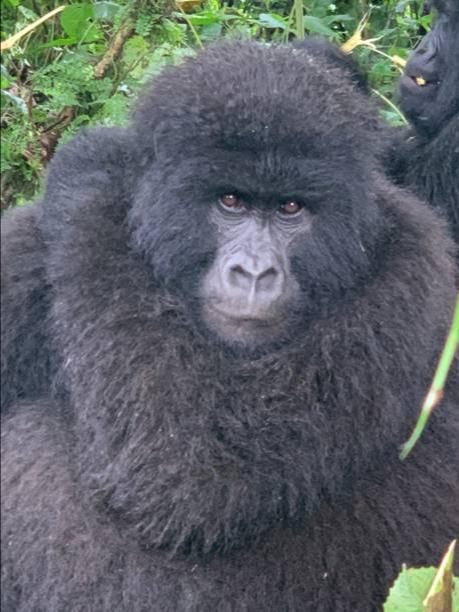goriile_montagne: (0, 20, 459, 612)
